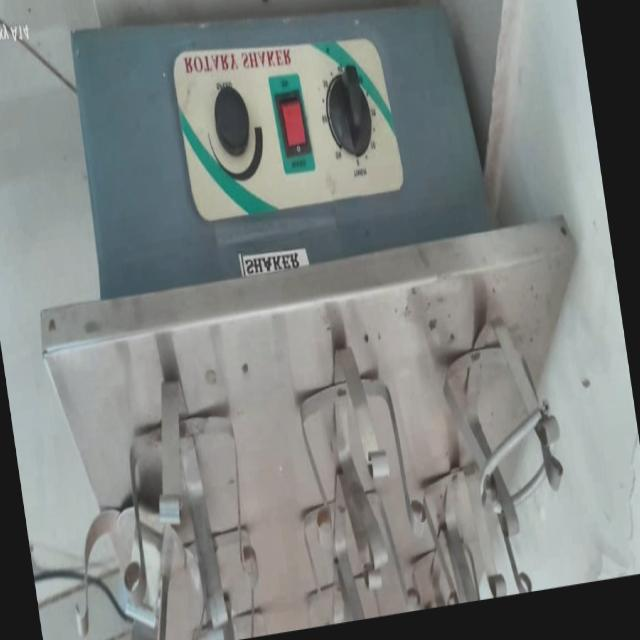Rotary Shaker: (0, 0, 626, 640)
